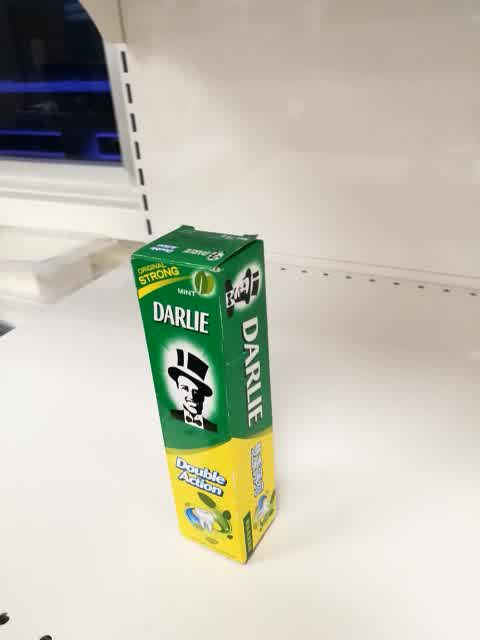toothpaste: (131, 224, 278, 565)
